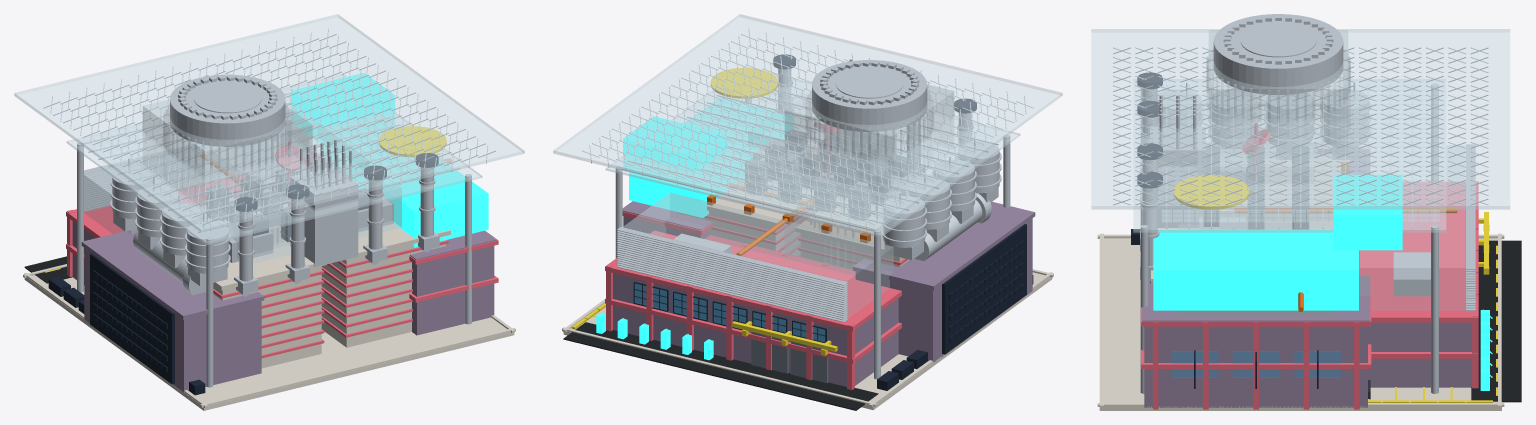
Rendered from hq_02_powertrain_l7.glb.
3 renders of one model, left to right at view 1: azimuth 30°, elevation 25°; view 2: azimuth 150°, elevation 25°; view 3: azimuth 270°, elevation 25°, orthographic. The views are drawn at different scales.
Visible parts, largest first — view 1: GEO_Parametric_Aerogel_Canopy, GEO_Dyno_Bunkers_Concrete, GEO_Photovoltaic_Solar_Canopy, GEO_West_Turbo_Wing, GEO_Canopy_Diamond_Spaceframe_Truss, GEO_Plinth_Foundation, GEO_Quantum_Battery_Synthesis_Tower, GEO_NextGen_Fusion_Research_Ring, GEO_Hydrogen_Cryogenic_Tanks, GEO_Living_Biophilic_Green_Wall, GEO_SiC_Cleanroom_Facility, GEO_East_Transmission_Wing (+19 smaller); view 2: GEO_Parametric_Aerogel_Canopy, GEO_Photovoltaic_Solar_Canopy, GEO_Curtain_Glass_Mezzanine, GEO_Canopy_Diamond_Spaceframe_Truss, GEO_Quantum_Battery_Synthesis_Tower, GEO_Workshop_Structural_Beams, GEO_South_Sunshade_Louvers, GEO_Front_Workshop_Brick, GEO_West_Turbo_Wing, GEO_Hydrogen_Cryogenic_Tanks, GEO_NextGen_Fusion_Research_Ring, GEO_Dyno_Bunkers_Concrete (+24 smaller); view 3: GEO_Parametric_Aerogel_Canopy, GEO_Photovoltaic_Solar_Canopy, GEO_East_Transmission_Wing, GEO_SiC_Cleanroom_Facility, GEO_Canopy_Diamond_Spaceframe_Truss, GEO_Plinth_Foundation, GEO_Workshop_Structural_Beams, GEO_NextGen_Fusion_Research_Ring, GEO_Curtain_Glass_Mezzanine, GEO_Quantum_Battery_Synthesis_Tower, GEO_Hydrogen_Cryogenic_Tanks, GEO_Front_Apron_Asphalt (+20 smaller).
Boxes of the visible parts, x1,y1,x2,y2 form: GEO_Parametric_Aerogel_Canopy: [14, 14, 524, 232]; GEO_Dyno_Bunkers_Concrete: [199, 188, 450, 368]; GEO_Photovoltaic_Solar_Canopy: [66, 74, 482, 245]; GEO_West_Turbo_Wing: [81, 229, 264, 391]; GEO_Canopy_Diamond_Spaceframe_Truss: [43, 28, 495, 230]; GEO_Plinth_Foundation: [23, 264, 515, 410]; GEO_Quantum_Battery_Synthesis_Tower: [142, 99, 312, 246]; GEO_NextGen_Fusion_Research_Ring: [170, 74, 285, 146]; GEO_Hydrogen_Cryogenic_Tanks: [110, 158, 230, 285]; GEO_Living_Biophilic_Green_Wall: [90, 253, 174, 384]; GEO_SiC_Cleanroom_Facility: [323, 127, 488, 247]; GEO_East_Transmission_Wing: [410, 230, 497, 335]; GEO_Parametric_Aerogel_Canopy: [553, 14, 1062, 231]; GEO_Photovoltaic_Solar_Canopy: [605, 67, 1020, 237]; GEO_Curtain_Glass_Mezzanine: [623, 192, 893, 318]; GEO_Canopy_Diamond_Spaceframe_Truss: [582, 28, 1033, 230]; GEO_Quantum_Battery_Synthesis_Tower: [784, 84, 954, 269]; GEO_Workshop_Structural_Beams: [605, 230, 901, 389]; GEO_South_Sunshade_Louvers: [616, 227, 848, 322]; GEO_Front_Workshop_Brick: [613, 273, 898, 386]; GEO_West_Turbo_Wing: [853, 201, 1035, 362]; GEO_Hydrogen_Cryogenic_Tanks: [881, 138, 1001, 259]; GEO_NextGen_Fusion_Research_Ring: [812, 60, 927, 131]; GEO_Dyno_Bunkers_Concrete: [676, 145, 930, 269]; GEO_Parametric_Aerogel_Canopy: [1091, 29, 1510, 209]; GEO_Photovoltaic_Solar_Canopy: [1133, 79, 1446, 232]; GEO_East_Transmission_Wing: [1142, 276, 1370, 407]; GEO_SiC_Cleanroom_Facility: [1153, 229, 1358, 310]; GEO_Canopy_Diamond_Spaceframe_Truss: [1113, 47, 1488, 205]; GEO_Plinth_Foundation: [1097, 233, 1504, 410]; GEO_Workshop_Structural_Beams: [1359, 181, 1478, 388]; GEO_NextGen_Fusion_Research_Ring: [1213, 14, 1343, 94]; GEO_Curtain_Glass_Mezzanine: [1360, 145, 1465, 310]; GEO_Quantum_Battery_Synthesis_Tower: [1206, 30, 1350, 150]; GEO_Hydrogen_Cryogenic_Tanks: [1158, 82, 1370, 159]; GEO_Front_Apron_Asphalt: [1471, 240, 1521, 402].
Size of what is drawn, in the model's own units: 39.75 by 25.6 by 38.5.
